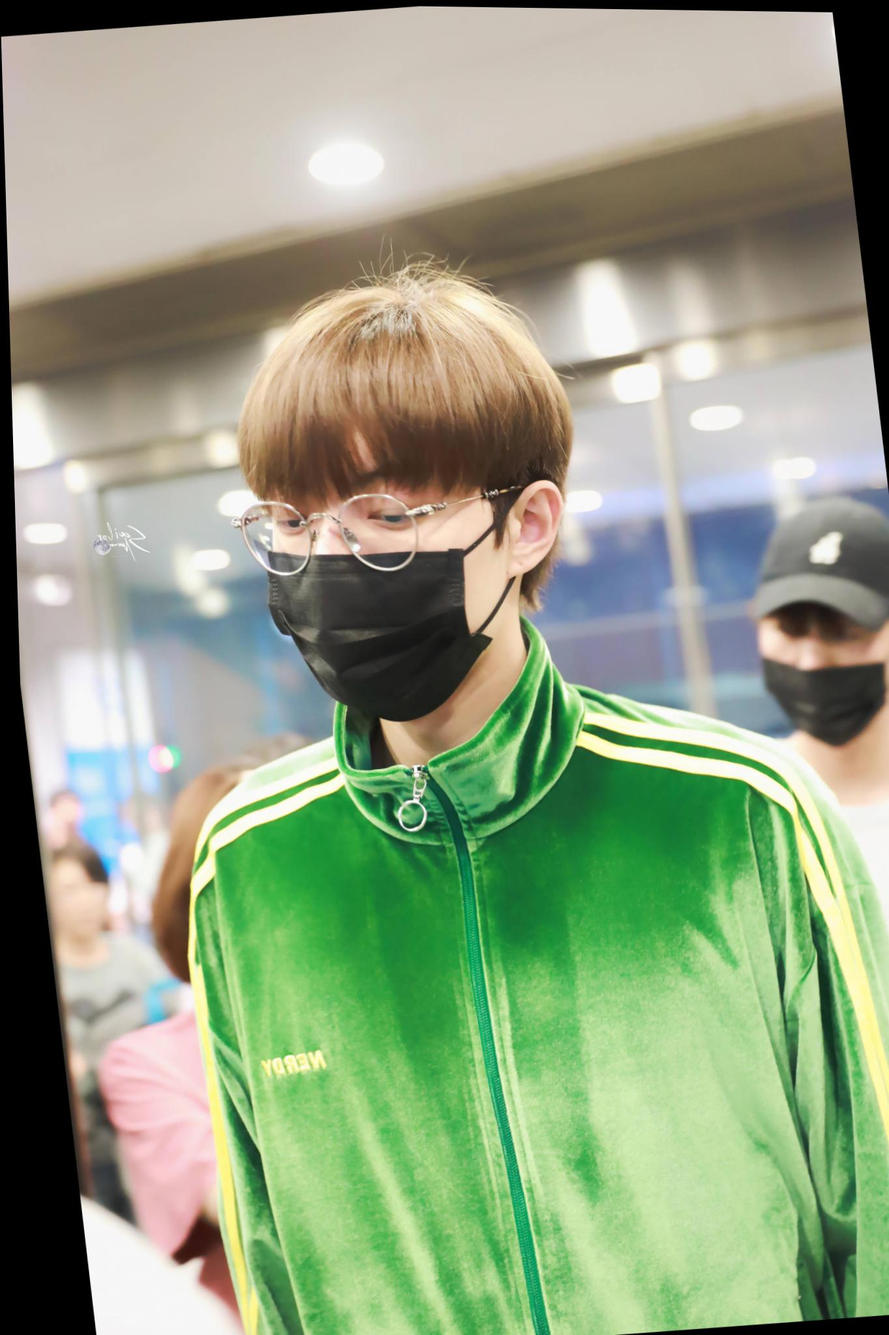NONE: (46, 859, 114, 944)
OK: (252, 461, 495, 734)
WRONG: (752, 606, 887, 750)
